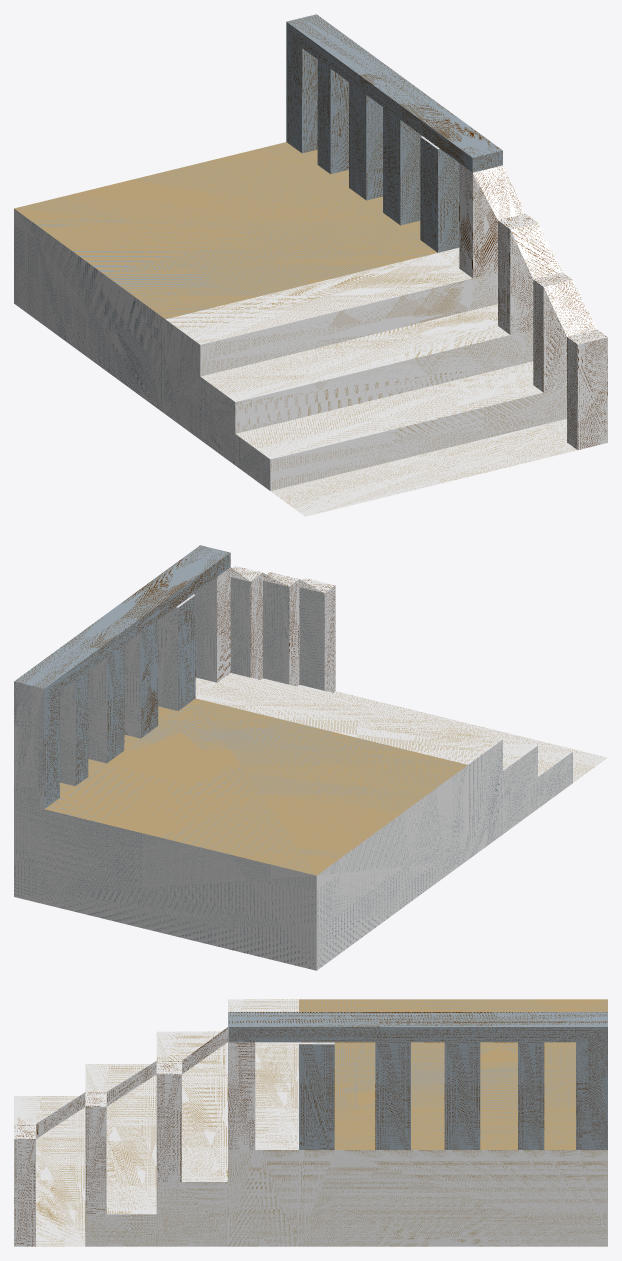
Rendered from escaleras.obj.
3 renders of one model, top to bottom at view 1: azimuth 30°, elevation 25°; view 2: azimuth 150°, elevation 25°; view 3: azimuth 270°, elevation 25°, orthographic.
Visible parts, largest first — view 1: Mesh1 Model; view 2: Mesh1 Model; view 3: Mesh1 Model.
Part boxes in pixels (<box>): Mesh1 Model: <box>14,14,607,516</box>; Mesh1 Model: <box>14,545,607,970</box>; Mesh1 Model: <box>14,999,607,1246</box>.
Size of the model in its own units: 1.5 by 1.02 by 2.5.
